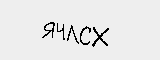Л: (65, 26, 81, 44)
С: (81, 27, 93, 46)
Х: (93, 25, 112, 48)
Ч: (56, 22, 66, 41)
Я: (43, 19, 56, 39)
